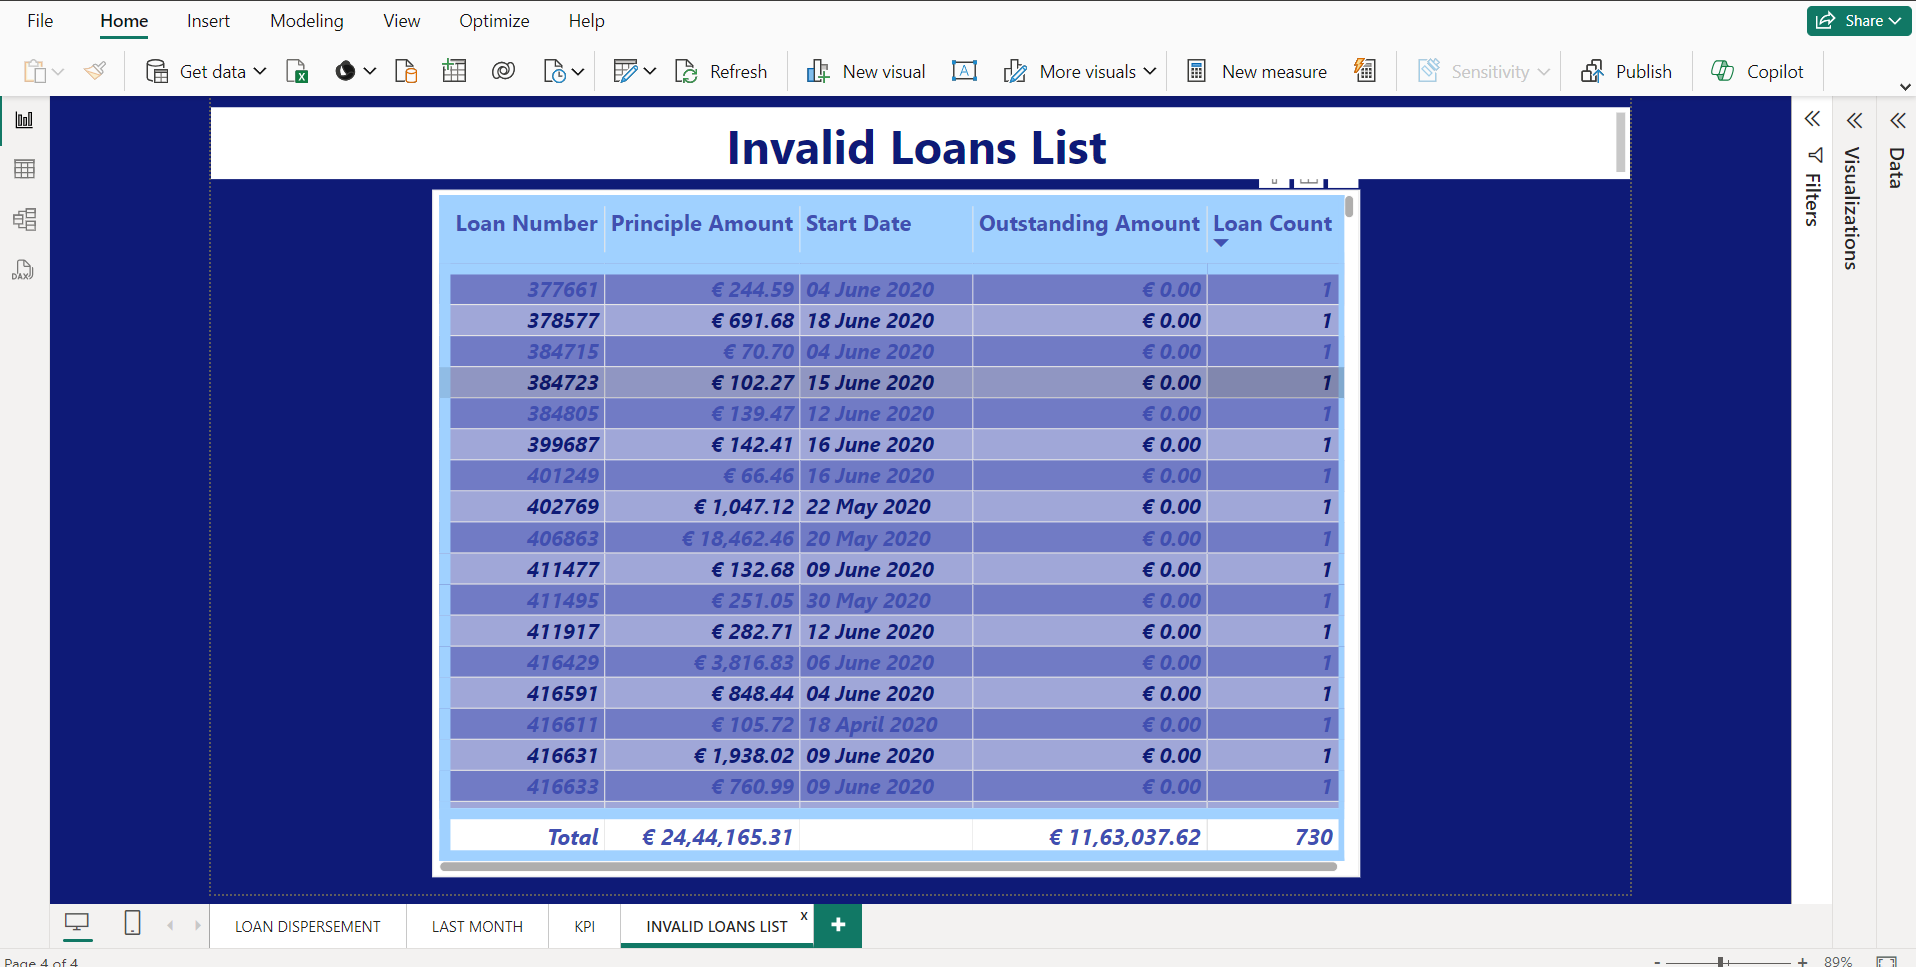

The page's visual inventory and layout, read from the dashboard file:
{"tool":"powerbi","page":{"name":"INVALID LOANS LIST","canvas":[1280,720],"ordinal":3},"visuals":[{"type":"tableEx","fields":{"Values":["loan details.loan_key","Sum(loan details.principal_amount_eur)","loan details.start_date","Sum(loan details.principal_amount_outstanding_eur)","CountNonNull(loan details.loan_key)"]},"box":[199.3,84.4,836.4,620],"z":0},{"type":"textbox","box":[0,9.8,1280.3,64.8],"z":1}]}

Visuals, with their boxes on the page's 1280x720 design canvas (x1, y1, x2, y2). These are canvas units, not pixel positions in the 1916x967 screenshot, which may show the page scaled, cropped or inside an application window:
tableEx - loan details.loan_key x Sum(loan details.principal_amount_eur): bbox(199, 84, 1036, 704)
textbox: bbox(0, 10, 1280, 75)
